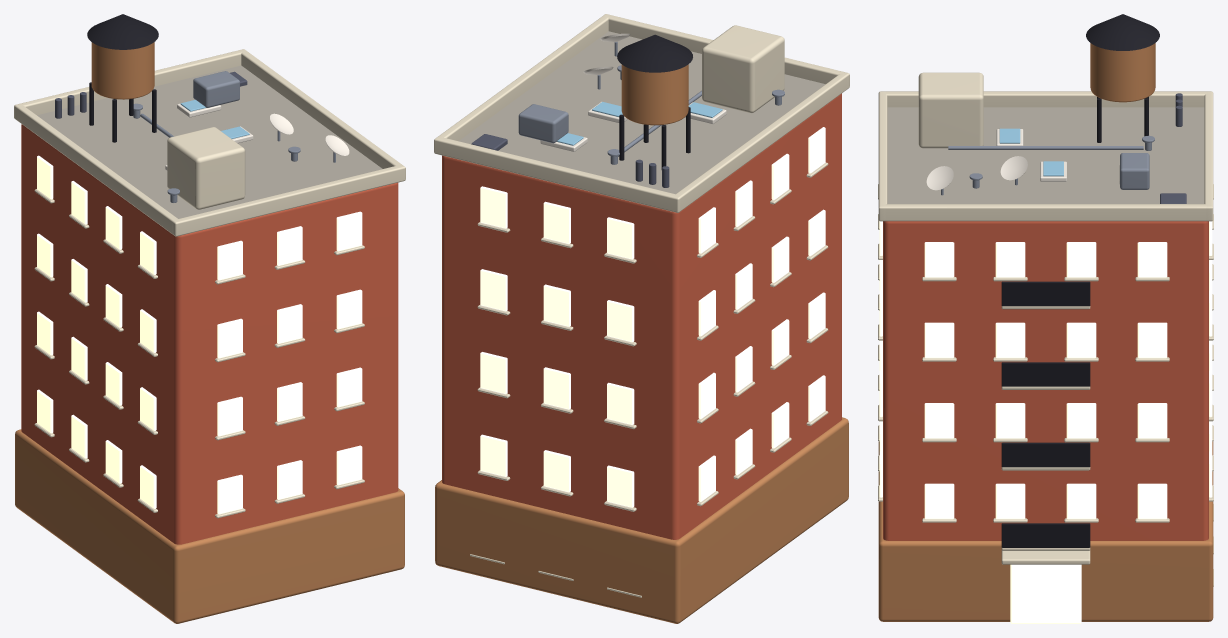
File: apartment.glb
3 views of the same model, side by side, from view 1: azimuth 30°, elevation 25°; view 2: azimuth 150°, elevation 25°; view 3: azimuth 270°, elevation 25° (orthographic). The views are drawn at different scales.
Visible parts, largest first — view 1: apartment; view 2: apartment; view 3: apartment.
Boxes of the visible parts, bbox=[...] form: apartment: bbox=[14, 14, 405, 623]; apartment: bbox=[434, 14, 849, 623]; apartment: bbox=[878, 14, 1213, 623].
Size of the model in its own units: 10.47 by 19.6 by 11.34.
Materials: 1 (1 with a texture image).
